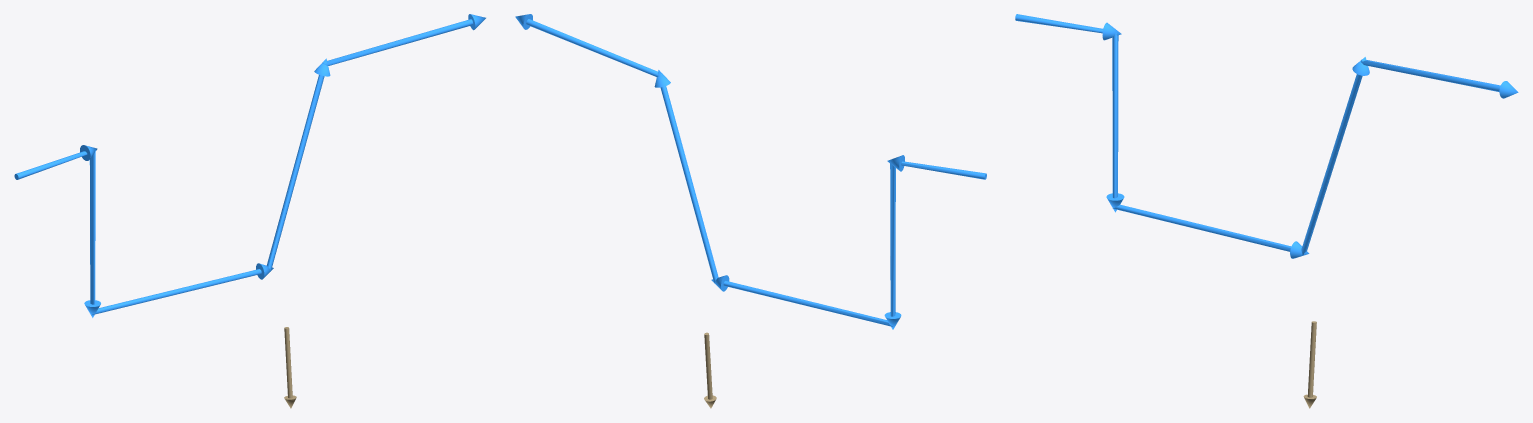
The model's file is lamella_clarifier_flow.glb.
3 renders of one model, left to right at view 1: azimuth 30°, elevation 25°; view 2: azimuth 150°, elevation 25°; view 3: azimuth 330°, elevation 25°, orthographic. The views are drawn at different scales.
Visible parts, largest first — view 1: water.001, sludge.001; view 2: water.001, sludge.001; view 3: water.001, sludge.001.
Part boxes in pixels (<box>): water.001: <box>14,14,485,317</box>; sludge.001: <box>284,327,296,408</box>; water.001: <box>515,14,986,329</box>; sludge.001: <box>704,332,716,408</box>; water.001: <box>1015,14,1518,258</box>; sludge.001: <box>1303,321,1316,408</box>.
Size of the model in its own units: 3.34 by 2.38 by 0.1981.
